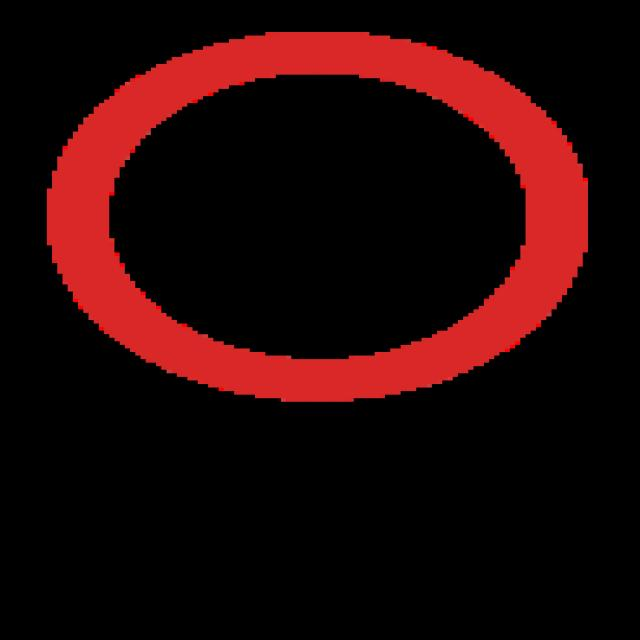Speed Limit -50-: (132, 115, 495, 260)
